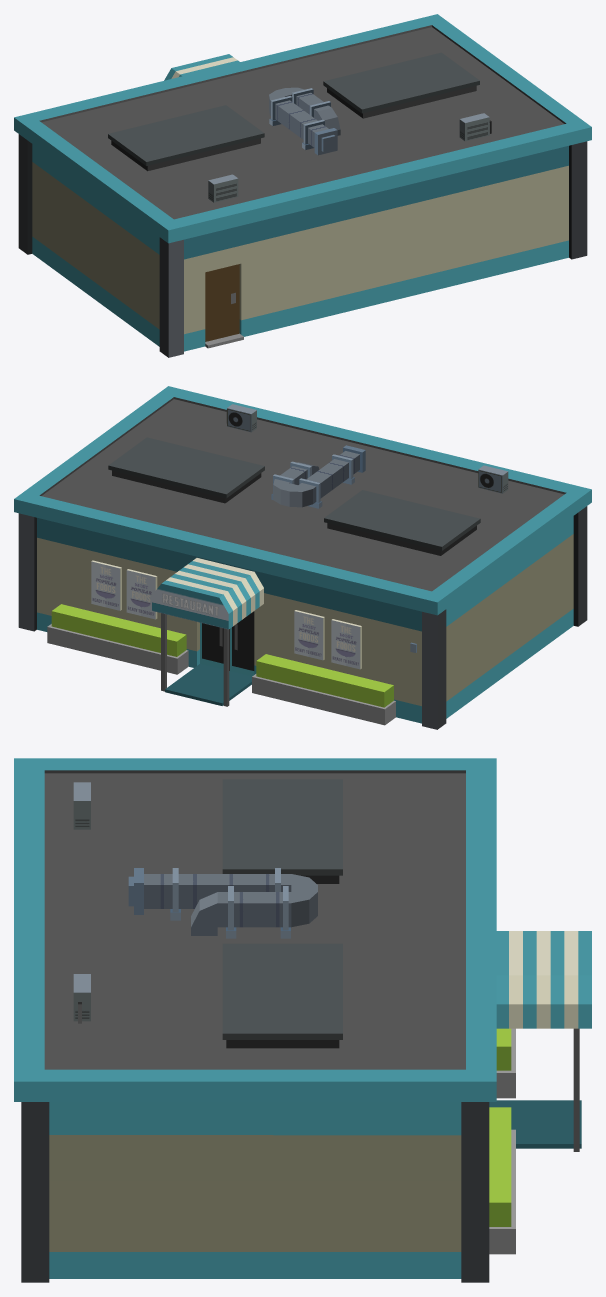
The model's file is Building_StripClub.fbx.
The picture shows the model from 3 angles, top to bottom: view 1: azimuth 30°, elevation 25°; view 2: azimuth 150°, elevation 25°; view 3: azimuth 270°, elevation 25°; orthographic projection. The views are drawn at different scales.
Parts seen in each view (by area): view 1: Building_StripClub; view 2: Building_StripClub; view 3: Building_StripClub.
Part boxes in pixels (box(x1,y1,x2,y2)): Building_StripClub: box(14, 14, 591, 357); Building_StripClub: box(14, 386, 591, 729); Building_StripClub: box(14, 758, 591, 1282).
Size of the model in its own units: 21 by 7.17 by 15.87.
